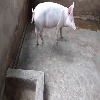heo: (28, 1, 85, 47)
